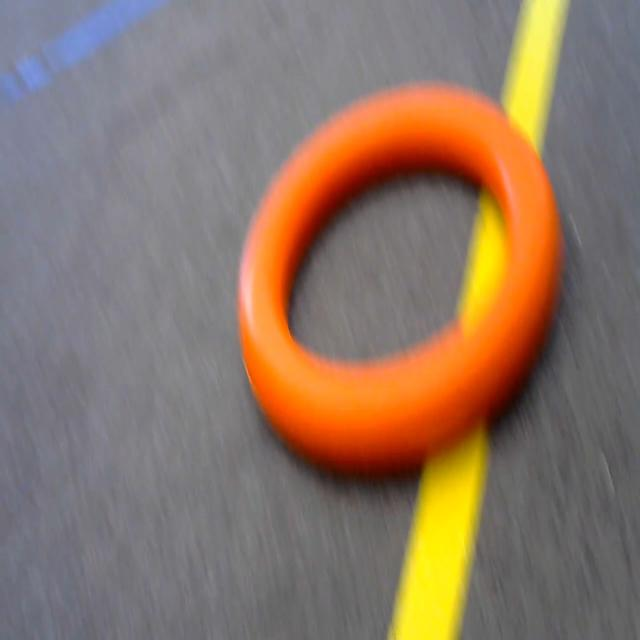note: (224, 73, 590, 470)
